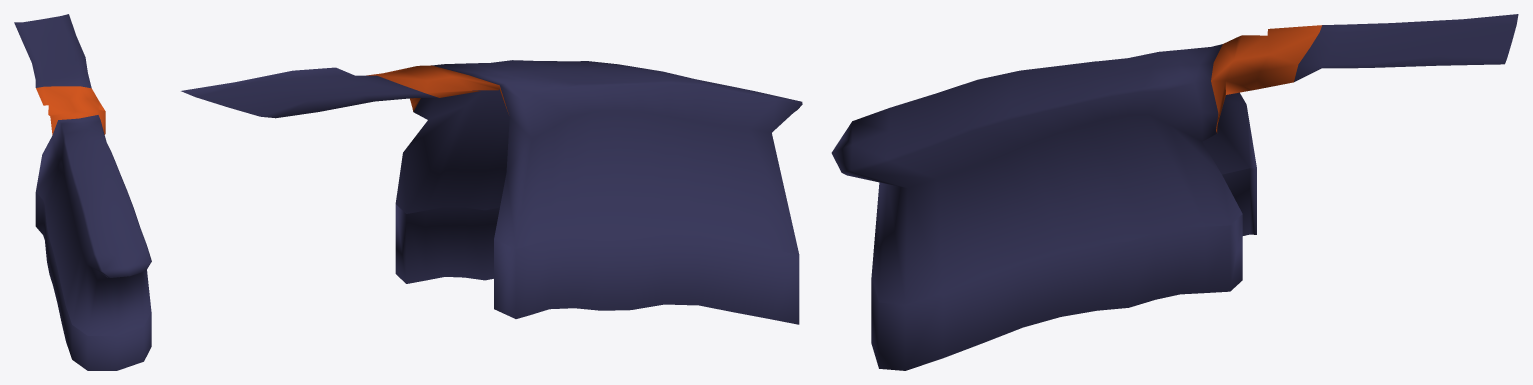
File: NewEndLapRamp.fbx
3 views of the same model, side by side, from view 1: azimuth 30°, elevation 25°; view 2: azimuth 150°, elevation 25°; view 3: azimuth 270°, elevation 25° (orthographic). The views are drawn at different scales.
Visible parts, largest first — view 1: Object001; view 2: Object001; view 3: Object001.
Part boxes in pixels (left/top/right/bottom): Object001: left=14, top=14, right=151, bottom=370; Object001: left=181, top=60, right=802, bottom=324; Object001: left=831, top=14, right=1518, bottom=370.
Bounding box in the file's own units: 1070 × 1382 × 2195.
